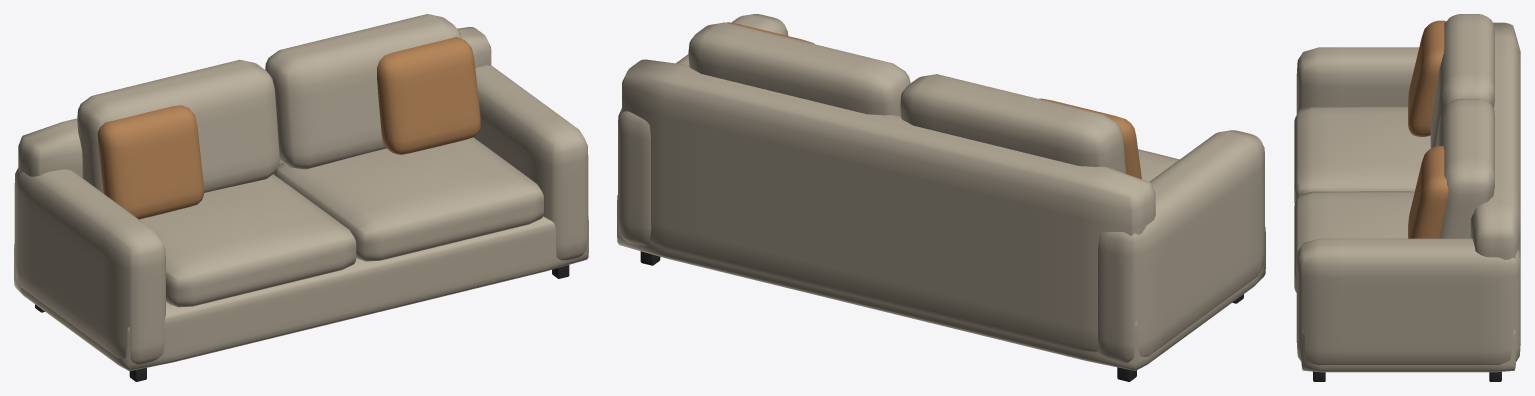
File: sofa.glb
3 views of the same model, side by side, from view 1: azimuth 30°, elevation 25°; view 2: azimuth 150°, elevation 25°; view 3: azimuth 270°, elevation 25° (orthographic). The views are drawn at different scales.
Visible parts, largest first — view 1: base, arm0, cushion1, cushion0, pillow1, pillow0, arm1, throw1, throw0, back; view 2: back, arm0, pillow0, pillow1, base, arm1, throw0, cushion0; view 3: arm1, cushion0, back, arm0, pillow1, cushion1, pillow0, throw0, throw1, base.
Part boxes in pixels (x1,y1,x2,y2): base: (14, 215, 588, 371); arm0: (14, 168, 165, 364); cushion1: (273, 137, 543, 261); cushion0: (139, 174, 356, 307); pillow1: (265, 14, 461, 169); pillow0: (77, 59, 279, 193); arm1: (474, 65, 588, 260); throw1: (377, 37, 480, 154); throw0: (97, 105, 203, 219); back: (18, 27, 491, 177); back: (622, 59, 1155, 351); arm0: (1098, 130, 1264, 363); pillow0: (900, 74, 1126, 173); pillow1: (688, 22, 910, 116); base: (617, 195, 1265, 370); arm1: (618, 14, 788, 245); throw0: (1039, 98, 1141, 179); cushion0: (1138, 149, 1179, 181); arm1: (1296, 238, 1520, 365); cushion0: (1294, 106, 1430, 203); back: (1470, 22, 1520, 261); arm0: (1296, 47, 1419, 114); pillow1: (1435, 99, 1494, 238); cushion1: (1294, 191, 1414, 292); pillow0: (1430, 14, 1494, 148); throw0: (1408, 20, 1446, 136); throw1: (1408, 146, 1448, 238); base: (1301, 330, 1515, 372).
Bounding box in the file's own units: 2 × 0.85 × 0.9.
